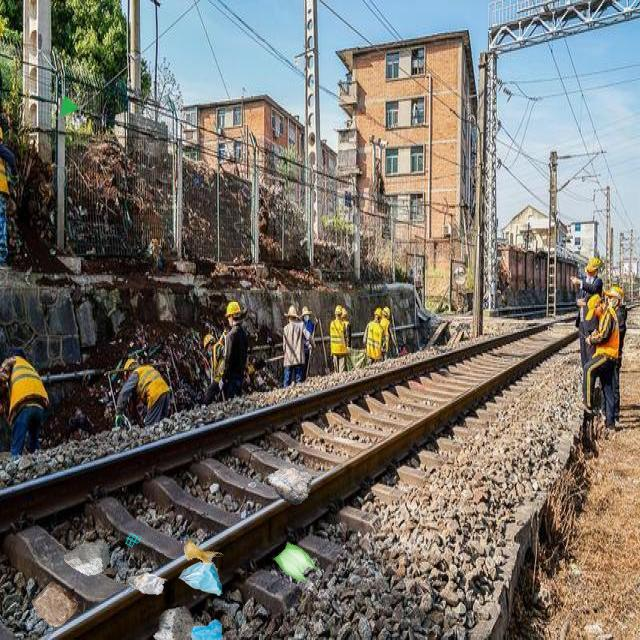0 plastic_garbage_on_track: (273, 541, 319, 585), (178, 562, 222, 596), (183, 538, 224, 573), (178, 619, 223, 640), (128, 572, 168, 595)
1 stone_on_track: (31, 580, 78, 627), (267, 467, 312, 505), (64, 541, 111, 576), (153, 606, 194, 640)
2 negative_shape: (59, 95, 80, 117)
3 negative_text: (124, 532, 141, 547)
4 track: (0, 337, 554, 639)
